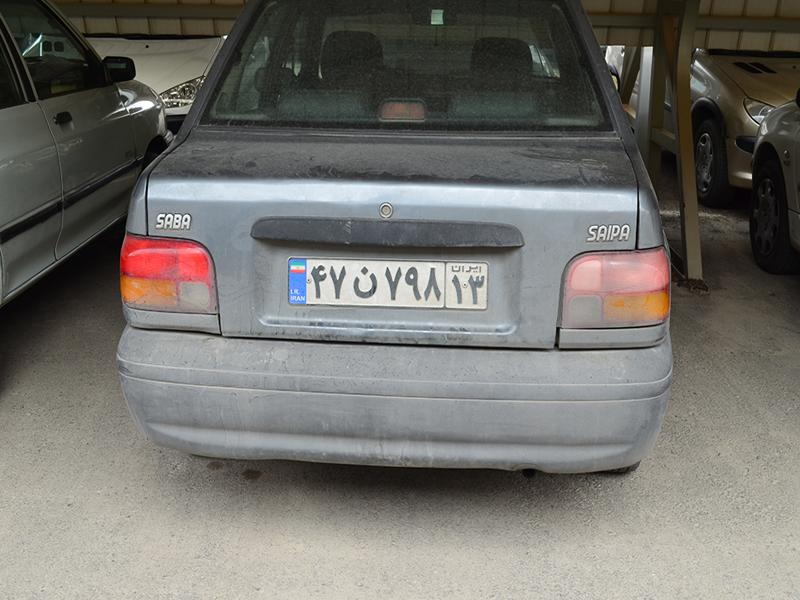Plate: (284, 246, 502, 322)
